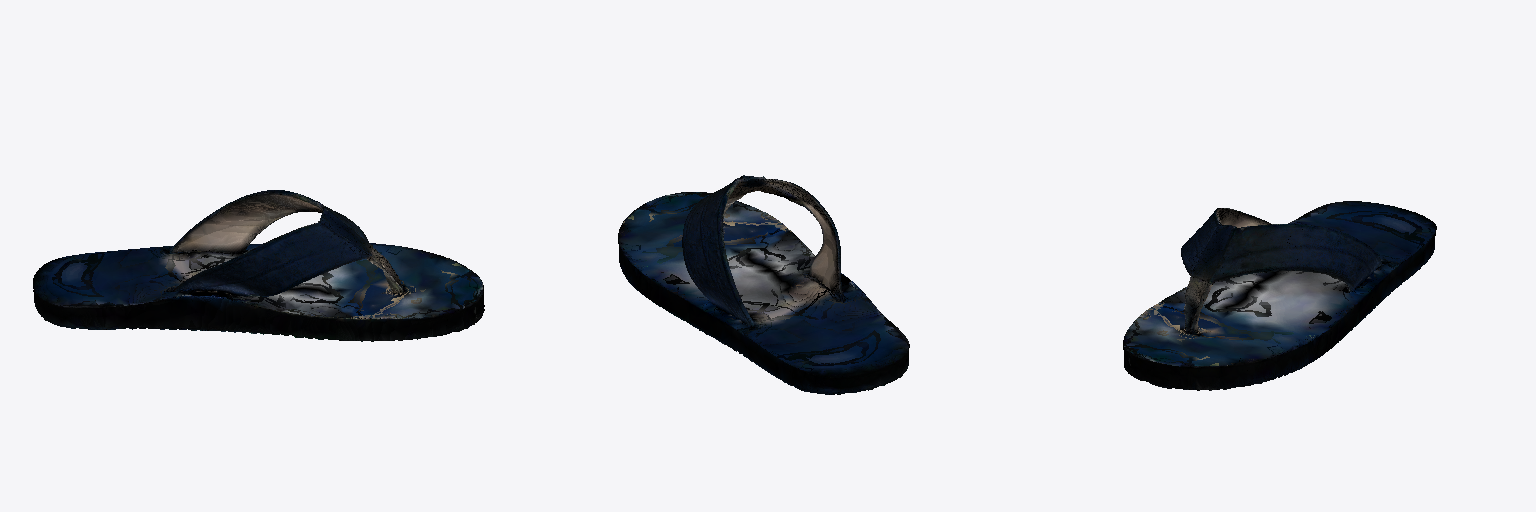
3 renders of one model, left to right at view 1: azimuth 30°, elevation 25°; view 2: azimuth 150°, elevation 25°; view 3: azimuth 270°, elevation 25°, orthographic.
Parts seen in each view (by area): view 1: Object_0; view 2: Object_0; view 3: Object_0.
Boxes of the visible parts, x1,y1,x2,y2 form: Object_0: [33, 190, 484, 341]; Object_0: [618, 175, 909, 394]; Object_0: [1123, 201, 1436, 390].
Bounding box in the file's own units: 0.2603 × 0.0756 × 0.2033.
Materials: 1 (1 with a texture image).